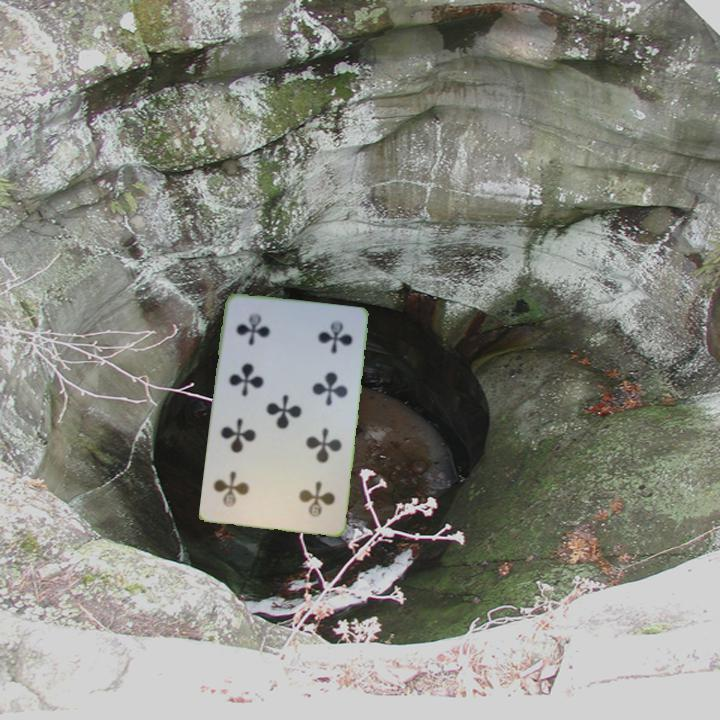c_9.png: (226, 302, 299, 367), (269, 462, 342, 526)
